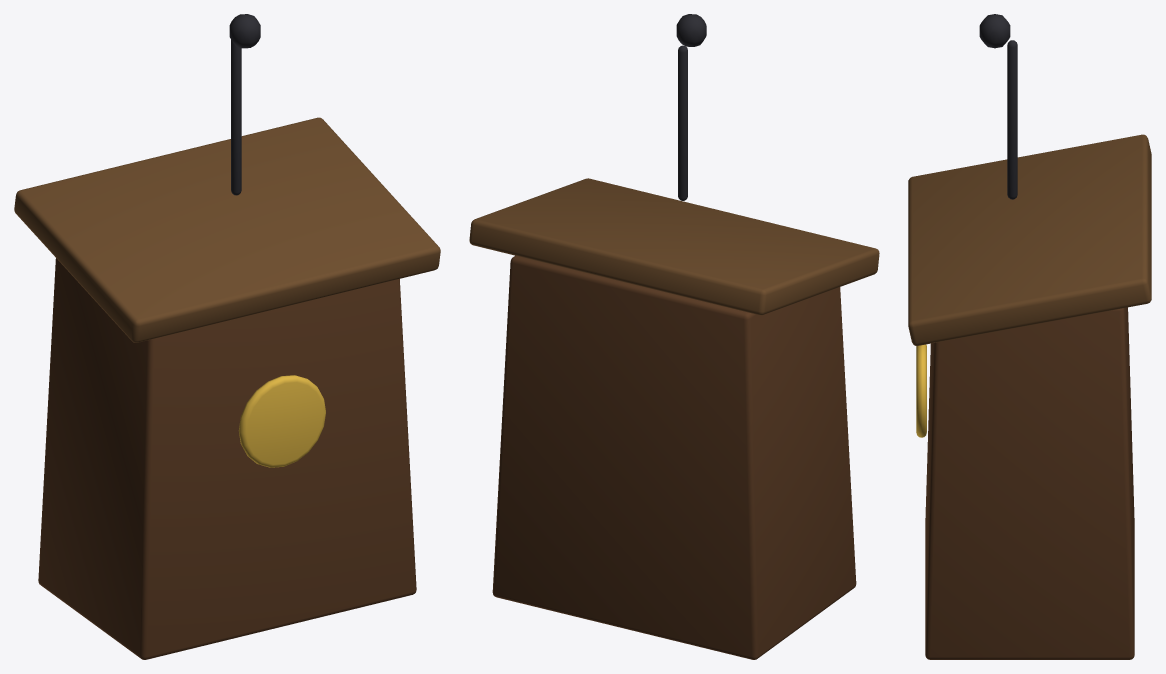
The model's file is podium.glb.
3 renders of one model, left to right at view 1: azimuth 30°, elevation 25°; view 2: azimuth 150°, elevation 25°; view 3: azimuth 270°, elevation 25°, orthographic. The views are drawn at different scales.
Visible parts, largest first — view 1: podium; view 2: podium; view 3: podium.
Boxes of the visible parts, x1=… form: podium: x1=14, y1=14, x2=440, y2=659; podium: x1=469, y1=14, x2=879, y2=659; podium: x1=908, y1=14, x2=1151, y2=659.
Bounding box in the file's own units: 1 × 1.83 × 0.6961.
